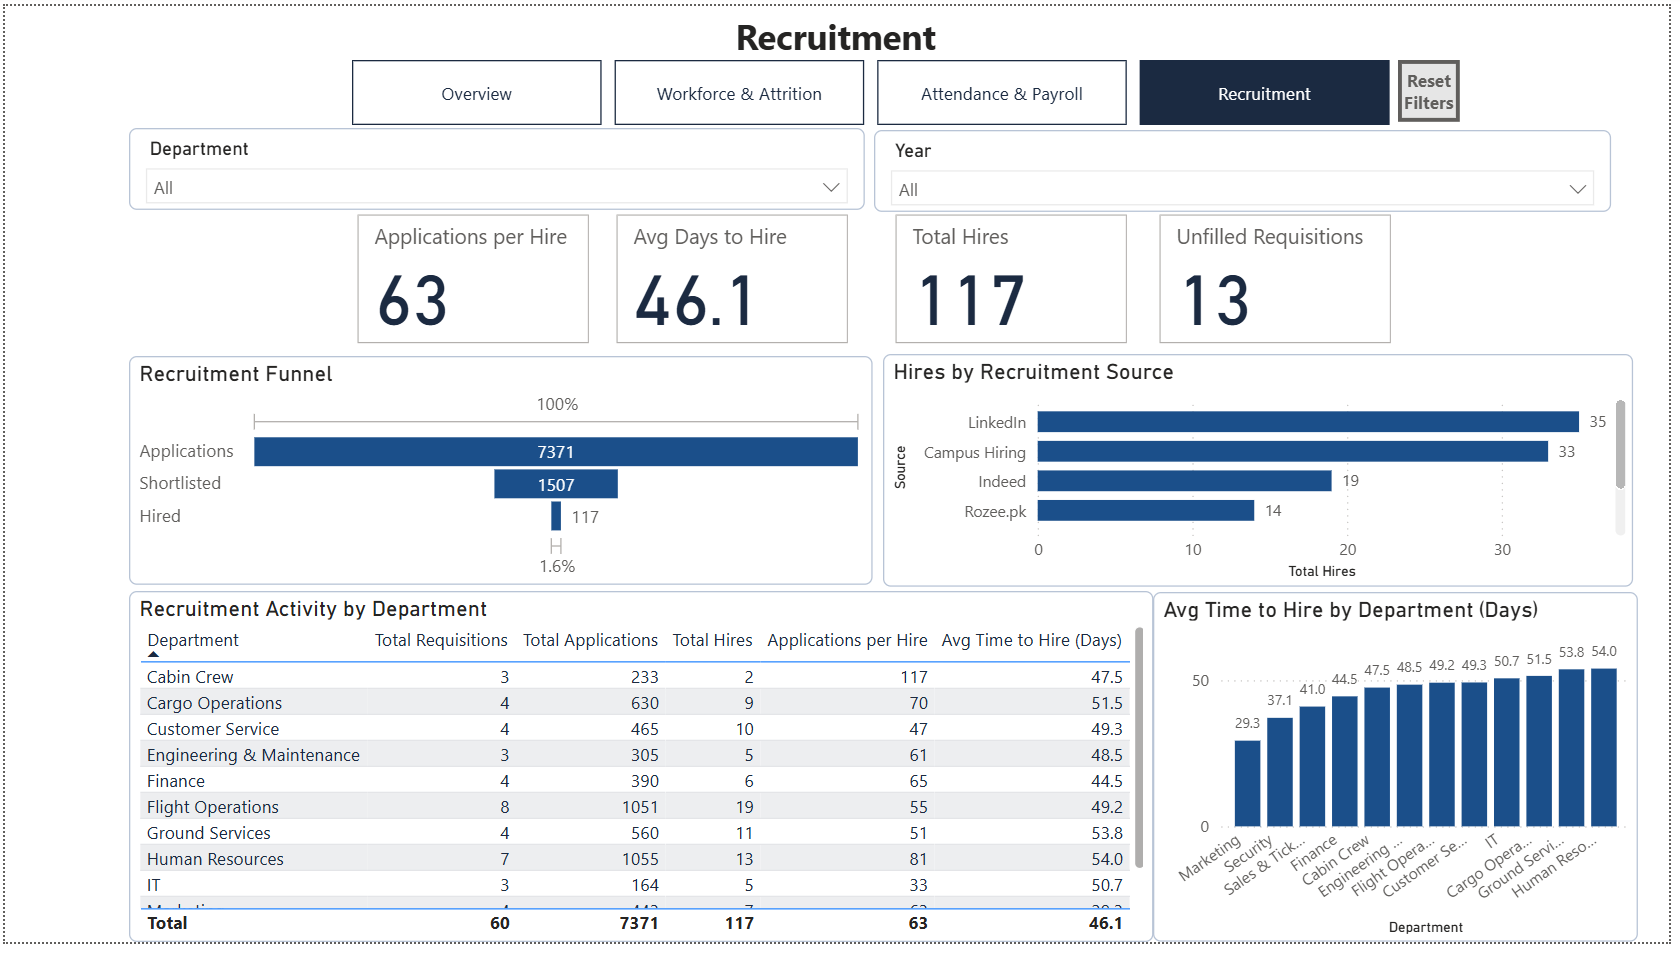

The page's visual inventory and layout, read from the dashboard file:
{"tool":"powerbi","page":{"name":"Recruitment","canvas":[1280,720],"ordinal":3},"visuals":[{"type":"textbox","box":[425.7,0,427.1,68.6],"z":0},{"type":"cardVisual","fields":{"Data":["_Measures.Applications per Hire"]},"box":[266.4,155.5,188.6,109.4],"z":1000},{"type":"cardVisual","fields":{"Data":["_Measures.Avg Time to Hire (Days)"]},"box":[465.1,155.5,188.6,109.4],"z":2000},{"type":"cardVisual","fields":{"Data":["_Measures.Total Hires"]},"box":[679.7,155.5,188.6,109.4],"z":3000},{"type":"cardVisual","fields":{"Data":["_Measures.Unfilled Requisitions"]},"box":[882.7,155.5,188.6,109.4],"z":4000},{"type":"slicer","fields":{"Values":["Dim_Date.Year"]},"box":[668.2,95,567.4,63],"z":5000},{"type":"slicer","fields":{"Values":["Dim_Department.DepartmentName"]},"box":[95,93.6,565.9,63.4],"z":6000},{"type":"funnel","title":"Recruitment Funnel","fields":{"Category":["Funnel Stage.Stage"],"Y":["_Measures.Funnel Value"]},"box":[95,269.3,571.7,175.7],"z":7000},{"type":"clusteredBarChart","title":"Hires by Recruitment Source","fields":{"Category":["Fact_Recruitment.Source"],"Y":["_Measures.Total Hires"]},"box":[675.4,267.8,577.4,178.6],"z":8000},{"type":"tableEx","title":"Recruitment Activity by Department","fields":{"Values":["Dim_Department.DepartmentName","_Measures.Total Requisitions","_Measures.Total Applications","_Measures.Total Hires","_Measures.Applications per Hire","_Measures.Avg Time to Hire (Days)"]},"box":[95,450,788.3,270],"z":9000},{"type":"clusteredColumnChart","title":"Avg Time to Hire by Department (Days)","fields":{"Category":["Dim_Department.DepartmentName"],"Y":["_Measures.Avg Time to Hire (Days)"]},"box":[882.7,450.7,373,269.3],"z":10000},{"type":"pageNavigator","box":[266.7,41.7,800,50],"z":11000},{"type":"actionButton","title":"Reset Filters","box":[1071.4,41.8,47.5,47.5],"z":12000}]}

Visuals, with their boxes in screenshot pixels (x1, y1, x2, y2), scaled from the page's 1280x720 canvas onto the 1680x953 screenshot:
textbox: {"x1": 559, "y1": 0, "x2": 1119, "y2": 91}
cardVisual - _Measures.Applications per Hire: {"x1": 350, "y1": 206, "x2": 597, "y2": 351}
cardVisual - _Measures.Avg Time to Hire (Days): {"x1": 610, "y1": 206, "x2": 858, "y2": 351}
cardVisual - _Measures.Total Hires: {"x1": 892, "y1": 206, "x2": 1140, "y2": 351}
cardVisual - _Measures.Unfilled Requisitions: {"x1": 1159, "y1": 206, "x2": 1406, "y2": 351}
slicer - Dim_Date.Year: {"x1": 877, "y1": 126, "x2": 1622, "y2": 209}
slicer - Dim_Department.DepartmentName: {"x1": 125, "y1": 124, "x2": 867, "y2": 208}
"Recruitment Funnel" funnel: {"x1": 125, "y1": 356, "x2": 875, "y2": 589}
"Hires by Recruitment Source" clusteredBarChart: {"x1": 886, "y1": 354, "x2": 1644, "y2": 591}
"Recruitment Activity by Department" tableEx: {"x1": 125, "y1": 596, "x2": 1159, "y2": 952}
"Avg Time to Hire by Department (Days)" clusteredColumnChart: {"x1": 1159, "y1": 597, "x2": 1648, "y2": 952}
pageNavigator: {"x1": 350, "y1": 55, "x2": 1400, "y2": 121}
"Reset Filters" actionButton: {"x1": 1406, "y1": 55, "x2": 1469, "y2": 118}
